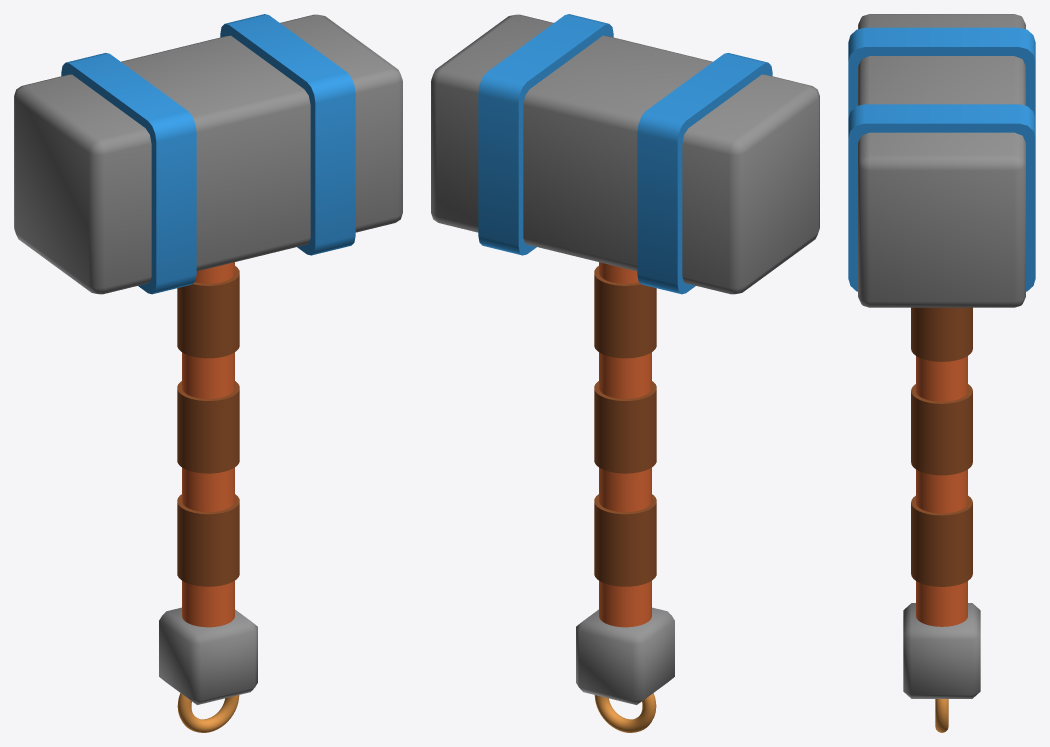
File: lowpolyhammer.fbx
3 renders of one model, left to right at view 1: azimuth 30°, elevation 25°; view 2: azimuth 150°, elevation 25°; view 3: azimuth 270°, elevation 25°, orthographic.
Visible parts, largest first — view 1: Hammer; view 2: Hammer; view 3: Hammer.
Part boxes in pixels (x1,y1,x2,y2): Hammer: (14, 14, 402, 732); Hammer: (431, 14, 819, 732); Hammer: (848, 14, 1035, 732).
Bounding box in the file's own units: 131 × 266 × 69.09.
